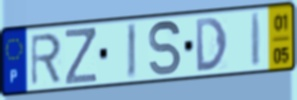D: (194, 15, 229, 74)
I: (125, 21, 138, 82), (250, 11, 263, 69)
R: (29, 31, 63, 88)
S: (147, 19, 184, 78)
Z: (64, 26, 99, 87)
